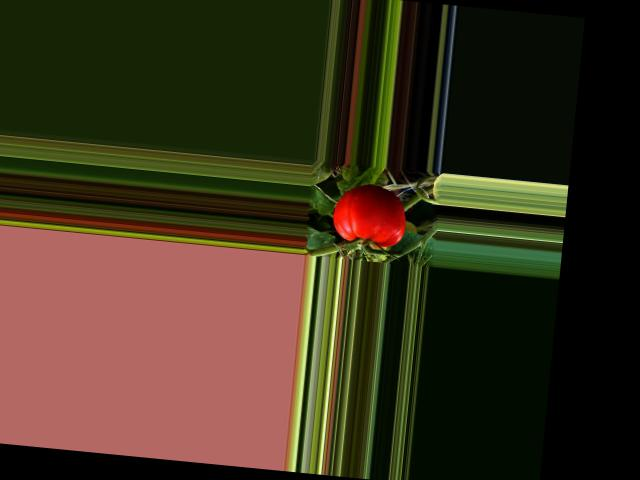tomato: (331, 181, 410, 248)
